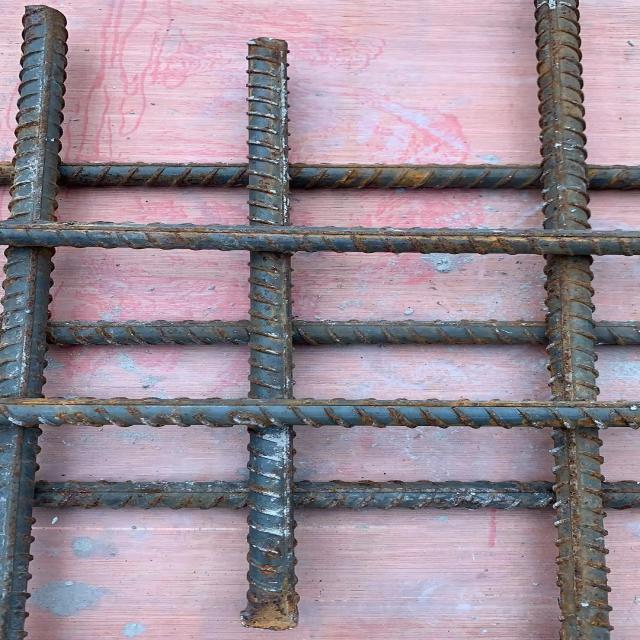ribbed bar: (531, 0, 616, 639), (0, 6, 80, 639), (237, 36, 303, 631), (0, 220, 639, 257), (0, 398, 639, 432), (0, 160, 637, 194), (37, 478, 639, 513), (49, 318, 639, 351)
